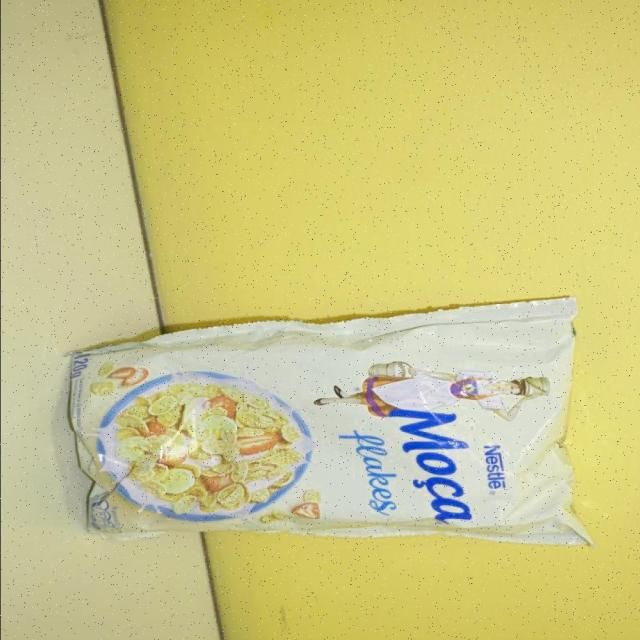CornFlakes: (62, 295, 591, 548)
